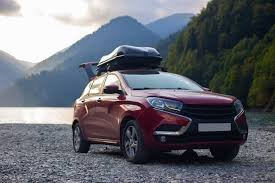mobil: (74, 67, 251, 164)
